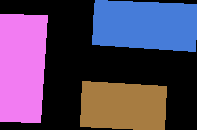parkingspot: (92, 0, 197, 51), (0, 14, 47, 122), (80, 81, 166, 130)
